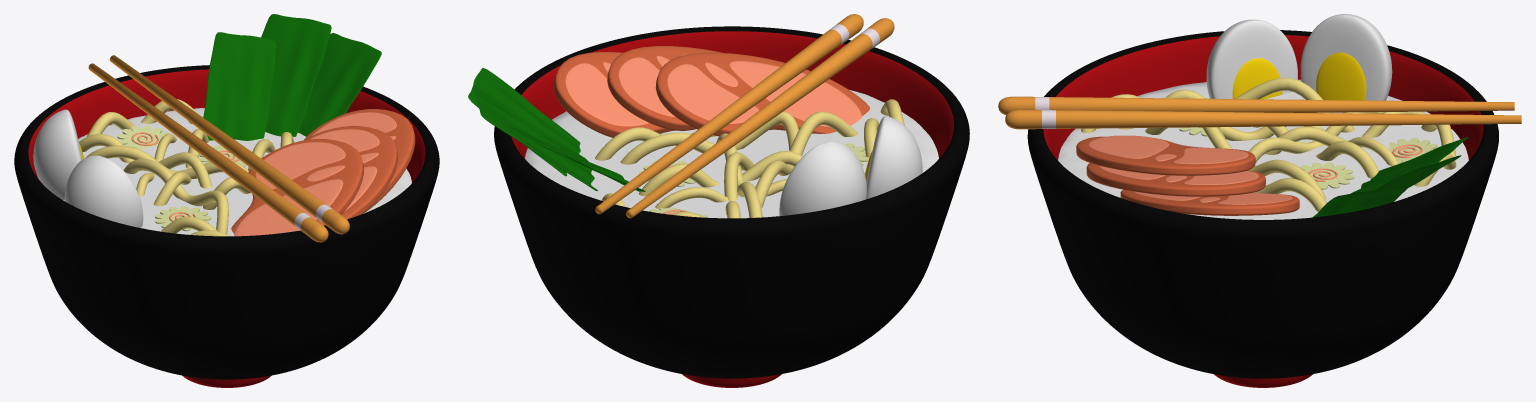
Rendered from try ramen.fbx.
3 renders of one model, left to right at view 1: azimuth 30°, elevation 25°; view 2: azimuth 150°, elevation 25°; view 3: azimuth 270°, elevation 25°, orthographic. The views are drawn at different scales.
Visible parts, largest first — view 1: Circle, Plane.011, Plane.010, Circle.001, Plane.009, Cylinder, Cylinder.001, Sphere.004, Sphere.002, Cube.002, Cube.001, Plane.007 (+15 smaller); view 2: Circle, Circle.001, Cylinder, Cylinder.001, Sphere.002, Cube.002, Sphere.004, Plane.007, Plane.010, Plane.006, Plane, Cube.001 (+12 smaller); view 3: Circle, Circle.001, Cylinder.001, Cylinder, Sphere.002, Sphere.004, Cube.002, Cube.001, Cube, Sphere.001, Plane.007, Plane.009 (+17 smaller).
Part boxes in pixels (x1=…): Circle: x1=14, y1=65, x2=439, y2=387; Plane.011: x1=203, y1=32, x2=276, y2=140; Plane.010: x1=261, y1=14, x2=331, y2=136; Circle.001: x1=63, y1=108, x2=411, y2=236; Plane.009: x1=297, y1=33, x2=381, y2=136; Cylinder: x1=88, y1=63, x2=328, y2=242; Cylinder.001: x1=109, y1=55, x2=349, y2=234; Sphere.004: x1=64, y1=155, x2=143, y2=227; Sphere.002: x1=33, y1=109, x2=82, y2=199; Cube.002: x1=231, y1=139, x2=363, y2=233; Cube.001: x1=304, y1=126, x2=397, y2=219; Plane.007: x1=234, y1=179, x2=343, y2=236; Circle: x1=494, y1=26, x2=969, y2=387; Circle.001: x1=525, y1=89, x2=938, y2=218; Cylinder: x1=626, y1=18, x2=894, y2=218; Cylinder.001: x1=595, y1=14, x2=863, y2=214; Sphere.002: x1=779, y1=141, x2=866, y2=215; Cube.002: x1=655, y1=52, x2=869, y2=136; Sphere.004: x1=866, y1=116, x2=922, y2=199; Plane.007: x1=729, y1=61, x2=861, y2=127; Plane.010: x1=472, y1=87, x2=597, y2=191; Plane.006: x1=667, y1=64, x2=759, y2=123; Plane: x1=565, y1=63, x2=649, y2=126; Cube.001: x1=607, y1=46, x2=722, y2=130; Circle: x1=1027, y1=30, x2=1498, y2=387; Circle.001: x1=1058, y1=79, x2=1468, y2=219; Cylinder.001: x1=1005, y1=109, x2=1521, y2=129; Cylinder: x1=998, y1=96, x2=1514, y2=114; Sphere.002: x1=1300, y1=14, x2=1392, y2=100; Sphere.004: x1=1206, y1=19, x2=1297, y2=98; Cube.002: x1=1076, y1=136, x2=1255, y2=175; Cube.001: x1=1086, y1=163, x2=1265, y2=196; Cube: x1=1120, y1=189, x2=1299, y2=215; Sphere.001: x1=1316, y1=52, x2=1366, y2=100; Plane.007: x1=1088, y1=135, x2=1168, y2=158; Plane.009: x1=1312, y1=186, x2=1408, y2=217.
Size of the model in its own units: 54.15 by 35.77 by 59.36.
